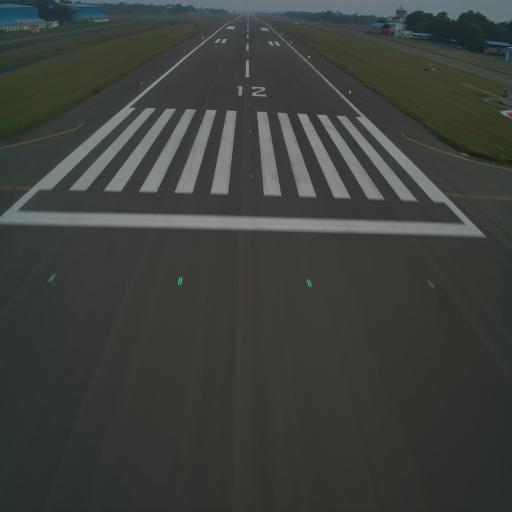off: (424, 276, 437, 292)
on: (304, 274, 318, 294), (46, 267, 58, 289), (175, 272, 185, 288), (248, 171, 252, 180), (348, 88, 352, 96), (248, 102, 252, 108), (249, 129, 252, 135), (140, 81, 142, 85)
